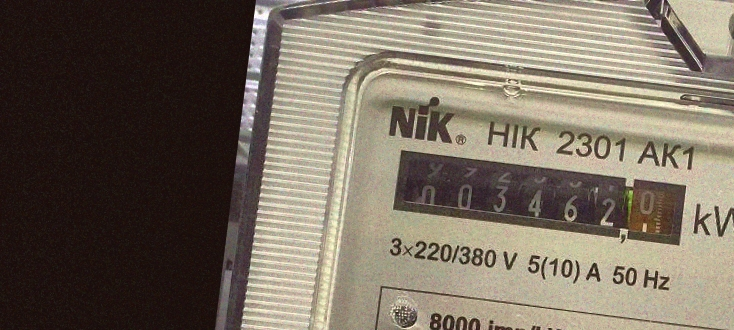0: (454, 180, 475, 211), (636, 188, 657, 217), (416, 181, 438, 206)
2: (596, 195, 618, 229)
3: (488, 182, 510, 216)
4: (525, 186, 546, 220)
6: (559, 190, 583, 226)
9: (422, 160, 444, 181)
screen: (378, 136, 699, 265)
